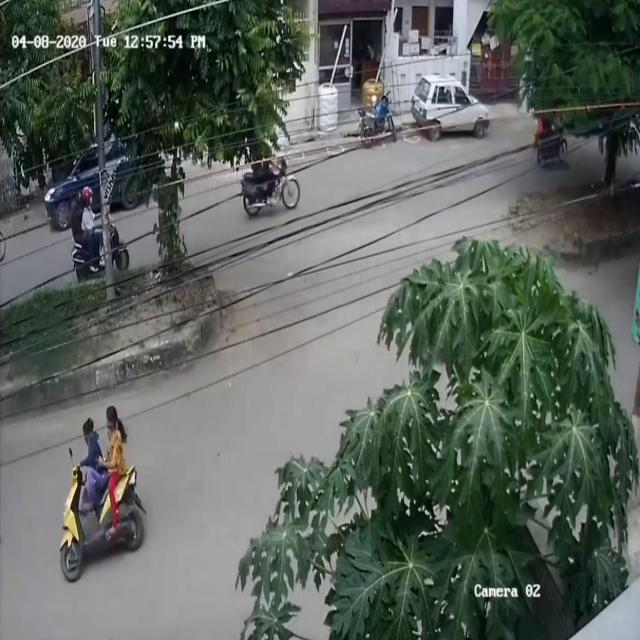accident: (51, 396, 145, 592)
